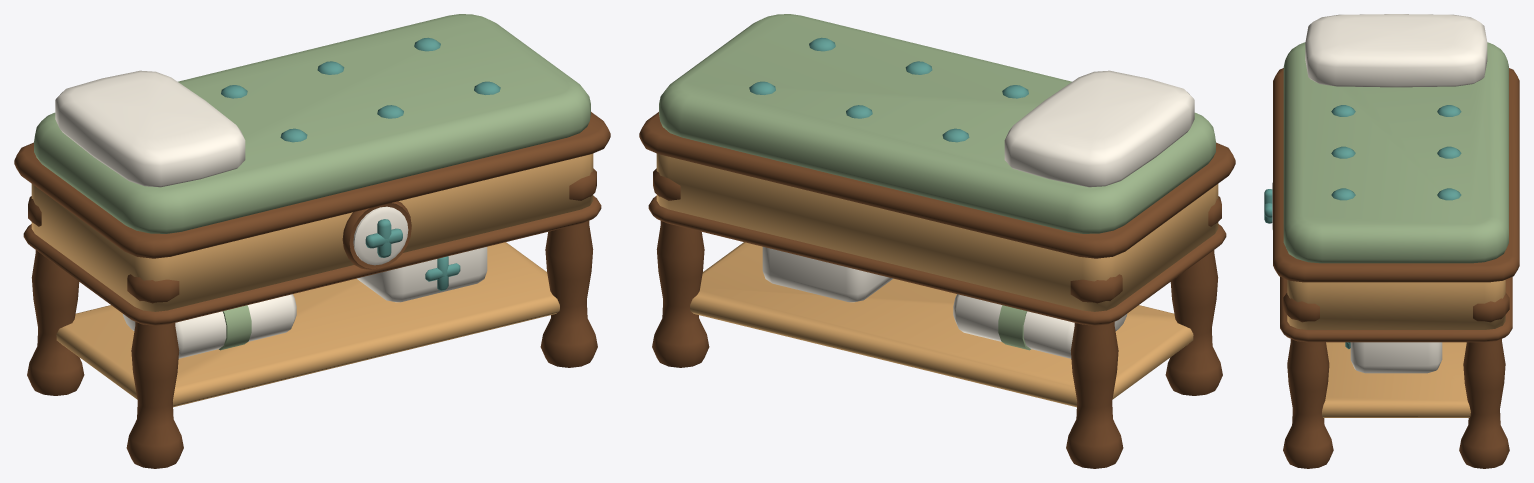
The model's file is ShopExamTable.fbx.
The picture shows the model from 3 angles, left to right: view 1: azimuth 30°, elevation 25°; view 2: azimuth 150°, elevation 25°; view 3: azimuth 270°, elevation 25°; orthographic projection. The views are drawn at different scales.
Visible parts, largest first — view 1: ShopExamTable; view 2: ShopExamTable; view 3: ShopExamTable.
Boxes of the visible parts, x1,y1,x2,y2 form: ShopExamTable: (14, 14, 610, 468); ShopExamTable: (639, 14, 1235, 468); ShopExamTable: (1264, 14, 1519, 468).
Size of the model in its own units: 1.4 by 0.838 by 0.725.
